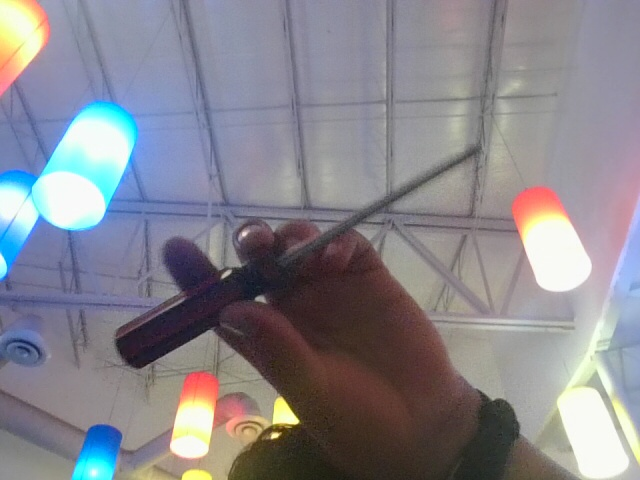destornillador: (116, 146, 483, 366)
